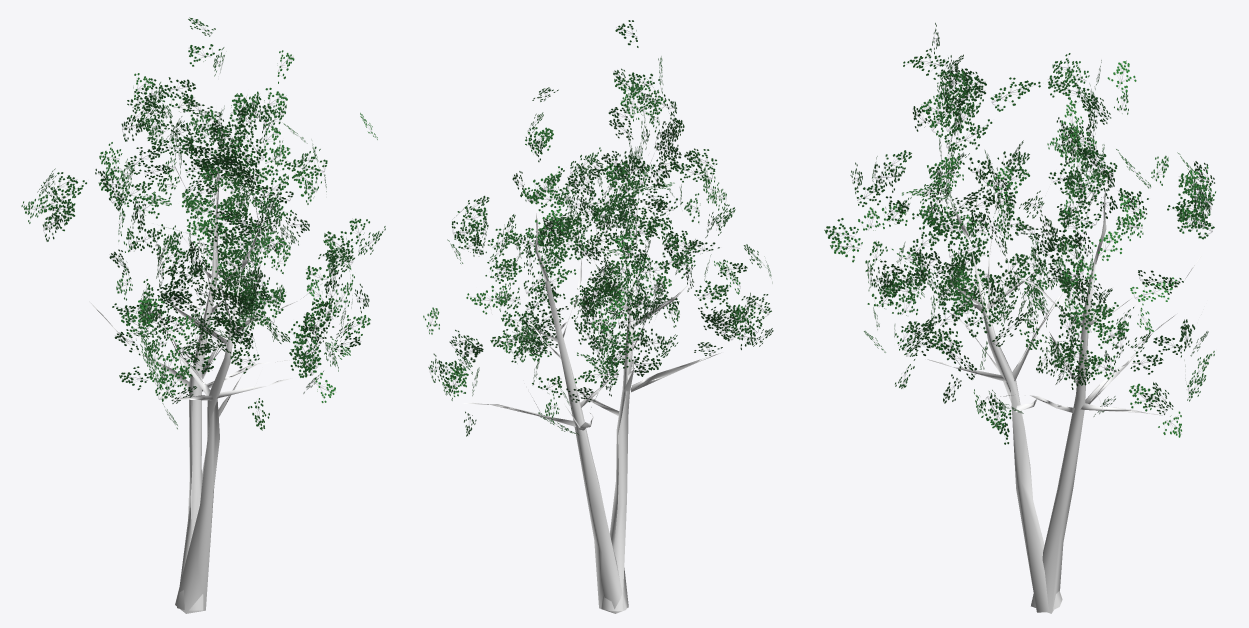
Rendered from bouleau_feuilles2_l1.glb.
3 views of the same model, side by side, from view 1: azimuth 30°, elevation 25°; view 2: azimuth 150°, elevation 25°; view 3: azimuth 270°, elevation 25° (orthographic). The views are drawn at different scales.
Visible parts, largest first — view 1: birch-4; view 2: birch-4; view 3: birch-4.
Boxes of the visible parts, x1=… form: birch-4: x1=21, y1=17, x2=385, y2=613; birch-4: x1=423, y1=20, x2=773, y2=613; birch-4: x1=824, y1=23, x2=1215, y2=613.
Bounding box in the file's own units: 62.95 × 120 × 75.13.
2 materials, 1 textured.
